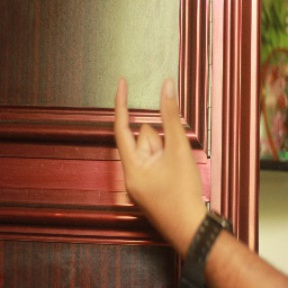U: (102, 70, 200, 217)
